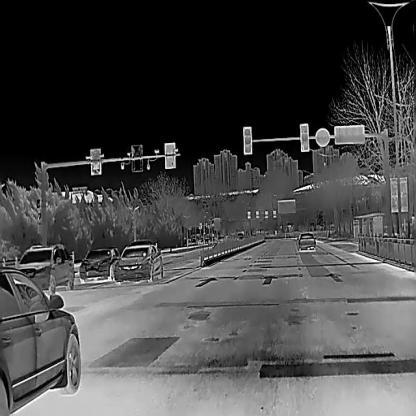car: (0, 264, 81, 415), (11, 241, 75, 295), (112, 243, 164, 286), (75, 244, 120, 282), (294, 231, 318, 250)
